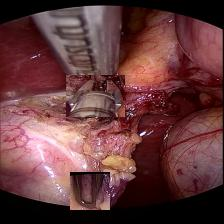Clipper: (66, 74, 125, 116)
Grasper: (70, 171, 110, 209)
